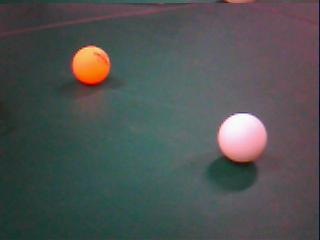oball: (71, 45, 110, 85)
